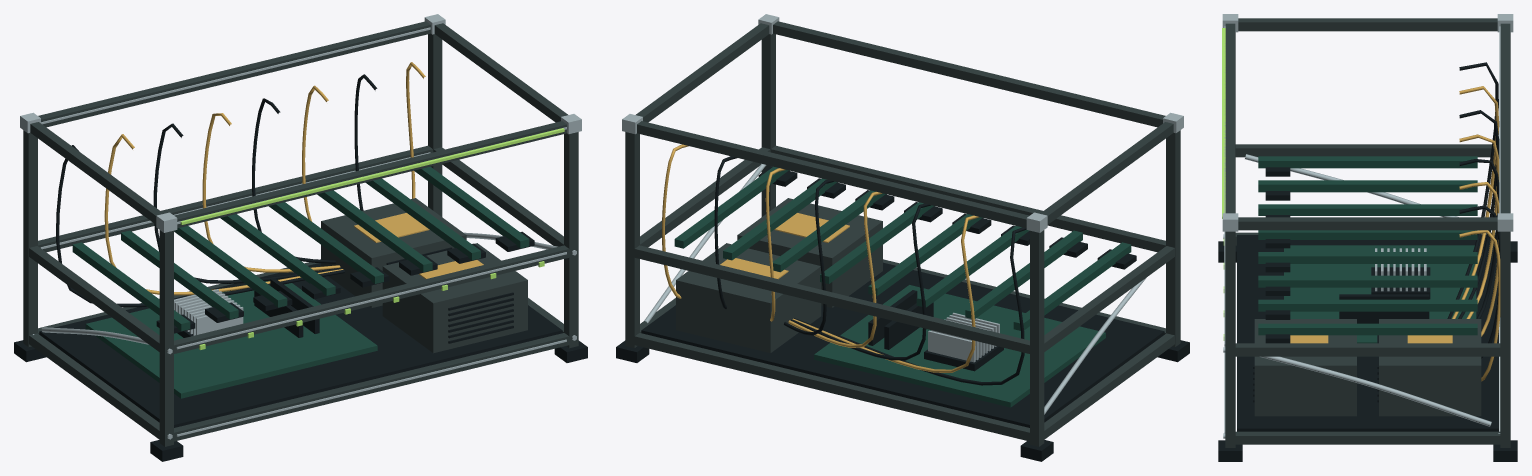
The model's file is rig-8-frame-none.glb.
3 views of the same model, side by side, from view 1: azimuth 30°, elevation 25°; view 2: azimuth 150°, elevation 25°; view 3: azimuth 270°, elevation 25° (orthographic).
Parts seen in each view (by area): view 1: Anodized graphite, Circuit board, Rubber and ABS, Brushed aluminium, rig-8-frame-none, Contacts, slot-cable-1, slot-cable-2, slot-cable-3, slot-cable-4, slot-cable-5; view 2: Anodized graphite, Circuit board, Rubber and ABS, Brushed aluminium, Contacts, slot-cable-1, slot-cable-2, slot-cable-3, slot-cable-4, slot-cable-5, slot-cable-8; view 3: Anodized graphite, Circuit board, Rubber and ABS, Brushed aluminium, slot-cable-1, Contacts, rig-8-frame-none, slot-cable-2, slot-cable-3, slot-cable-4, slot-cable-8, slot-cable-5 (+2 smaller).
Part boxes in pixels (box(x1,y1,x2,y2)): Anodized graphite: box(23, 21, 578, 446); Circuit board: box(72, 166, 529, 398); Rubber and ABS: box(14, 231, 587, 461); Brushed aluminium: box(20, 14, 581, 439); rig-8-frame-none: box(180, 128, 564, 224); Contacts: box(354, 213, 483, 279); slot-cable-1: box(56, 145, 344, 307); slot-cable-2: box(104, 134, 343, 295); slot-cable-3: box(153, 123, 342, 283); slot-cable-4: box(202, 113, 340, 272); slot-cable-5: box(252, 98, 335, 263); Anodized graphite: box(625, 21, 1180, 446); Circuit board: box(674, 166, 1131, 407); Rubber and ABS: box(616, 166, 1189, 461); Brushed aluminium: box(622, 14, 1183, 414); Contacts: box(720, 213, 849, 279); slot-cable-1: box(794, 227, 1026, 385); slot-cable-2: box(792, 215, 979, 372); slot-cable-3: box(791, 203, 930, 360); slot-cable-4: box(788, 191, 882, 347); slot-cable-5: box(784, 180, 833, 335); slot-cable-8: box(662, 144, 688, 298); Anodized graphite: box(1225, 18, 1510, 447); Circuit board: box(1258, 156, 1477, 343); Rubber and ABS: box(1218, 167, 1517, 461); Brushed aluminium: box(1222, 14, 1513, 438); slot-cable-1: box(1447, 62, 1498, 318); Contacts: box(1290, 335, 1452, 343); rig-8-frame-none: box(1222, 28, 1225, 218); slot-cable-2: box(1452, 86, 1499, 318); slot-cable-3: box(1458, 110, 1499, 318); slot-cable-4: box(1459, 134, 1499, 318); slot-cable-8: box(1459, 230, 1500, 381); slot-cable-5: box(1459, 159, 1499, 318).
Bounding box in the file's own units: 6.06 × 3.24 × 3.66.
